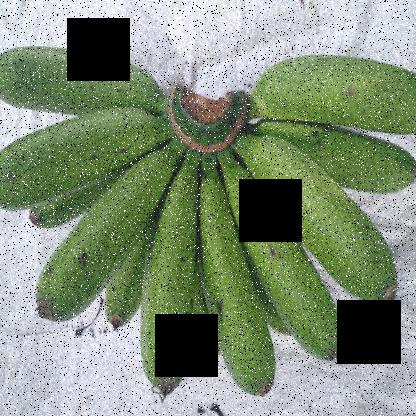unripe: (29, 145, 188, 332), (239, 132, 404, 307), (228, 164, 350, 372), (200, 162, 288, 402), (132, 150, 207, 415), (1, 100, 170, 217), (0, 20, 176, 127), (241, 41, 415, 141), (232, 115, 415, 208)
